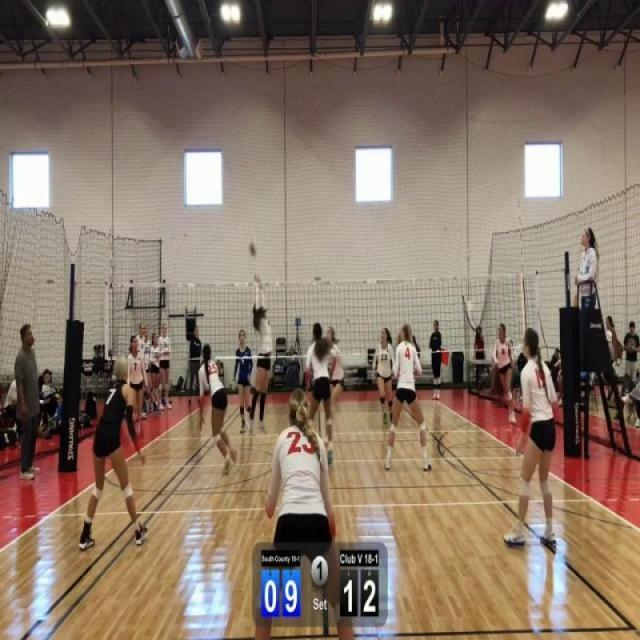volleyball: (246, 236, 259, 260)
